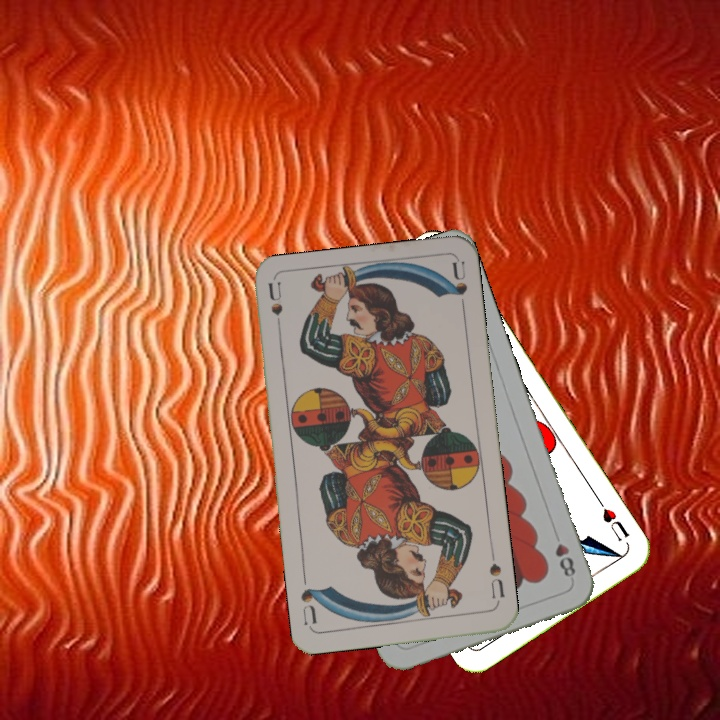H8: (551, 539, 578, 580)
HU: (593, 495, 632, 544)
SU: (264, 280, 286, 340), (485, 548, 507, 607)
